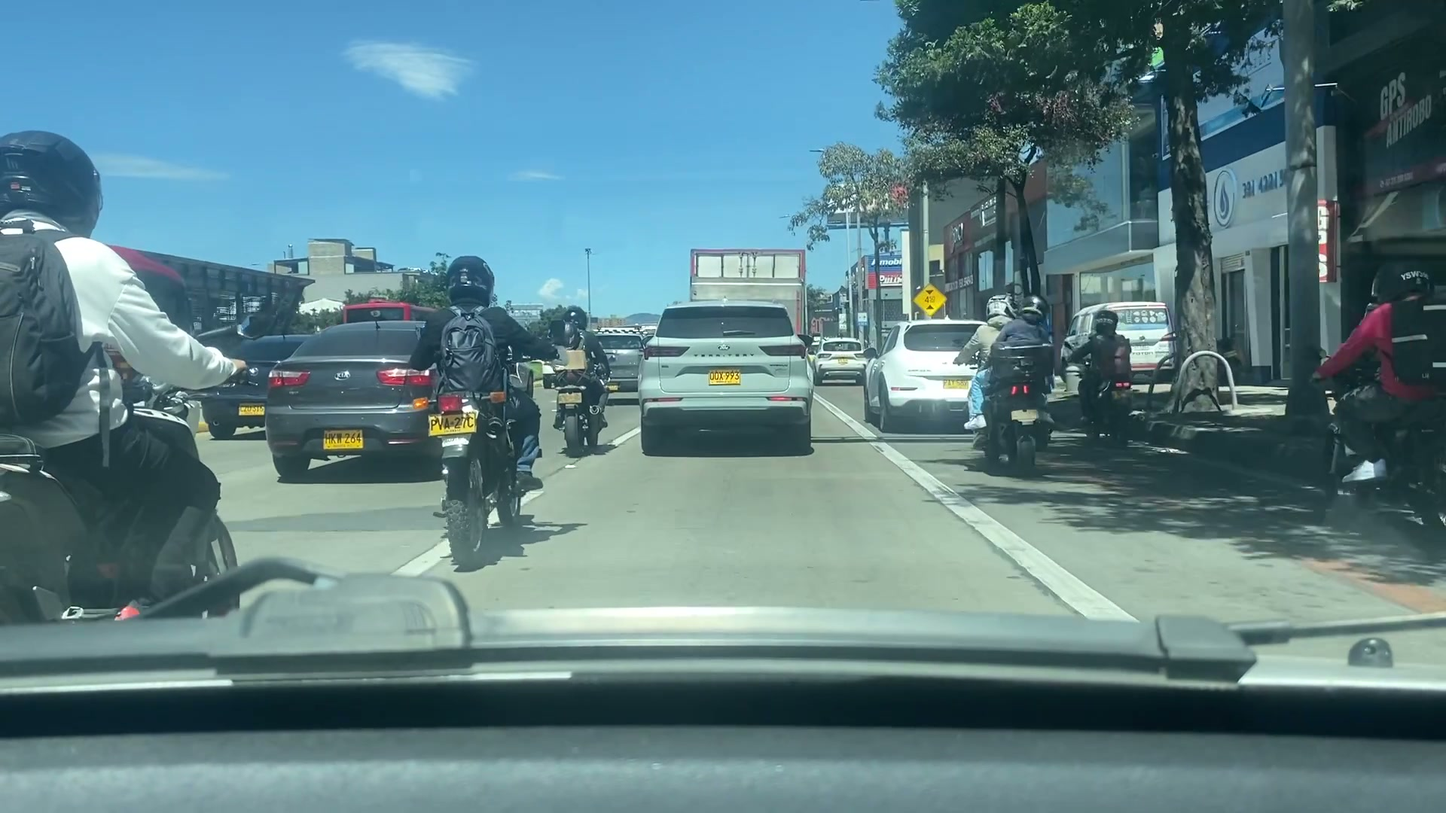car: (266, 319, 449, 487), (636, 298, 817, 452), (864, 317, 1000, 436), (199, 328, 316, 440), (589, 322, 646, 399), (812, 334, 867, 388)
motorcycle: (1299, 353, 1446, 550), (407, 393, 550, 566), (962, 367, 1053, 470), (1067, 370, 1144, 457), (540, 375, 618, 457)
person: (0, 126, 253, 616), (409, 256, 545, 509), (1313, 266, 1446, 502), (977, 298, 1057, 430), (1067, 298, 1137, 431), (539, 306, 611, 434), (964, 293, 1020, 436)
truck: (690, 248, 810, 342)
